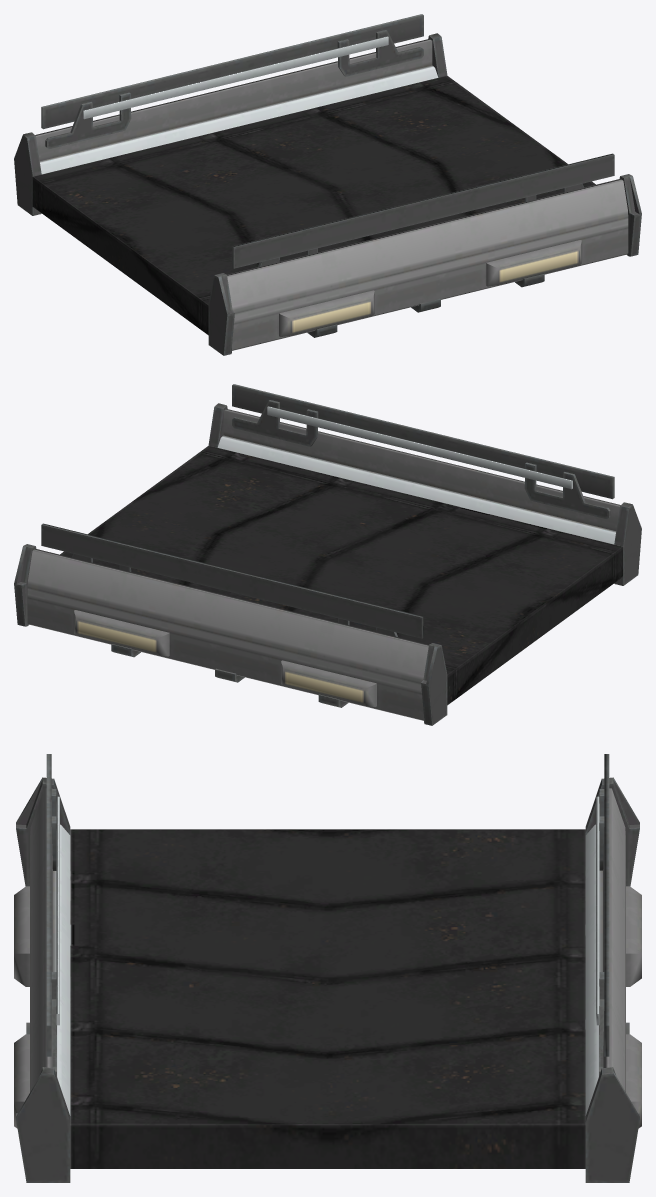
The model's file is belt-mk3.glb.
3 renders of one model, top to bottom at view 1: azimuth 30°, elevation 25°; view 2: azimuth 150°, elevation 25°; view 3: azimuth 270°, elevation 25°, orthographic. The views are drawn at different scales.
Visible parts, largest first — view 1: SM_ConveyorBelt_Mk3; view 2: SM_ConveyorBelt_Mk3; view 3: SM_ConveyorBelt_Mk3.
Boxes of the visible parts, x1,y1,x2,y2 form: SM_ConveyorBelt_Mk3: [14, 14, 641, 355]; SM_ConveyorBelt_Mk3: [14, 384, 641, 725]; SM_ConveyorBelt_Mk3: [14, 754, 641, 1182].
Bounding box in the file's own units: 2 × 0.4892 × 1.79.
Materials: 1 (1 with a texture image).
